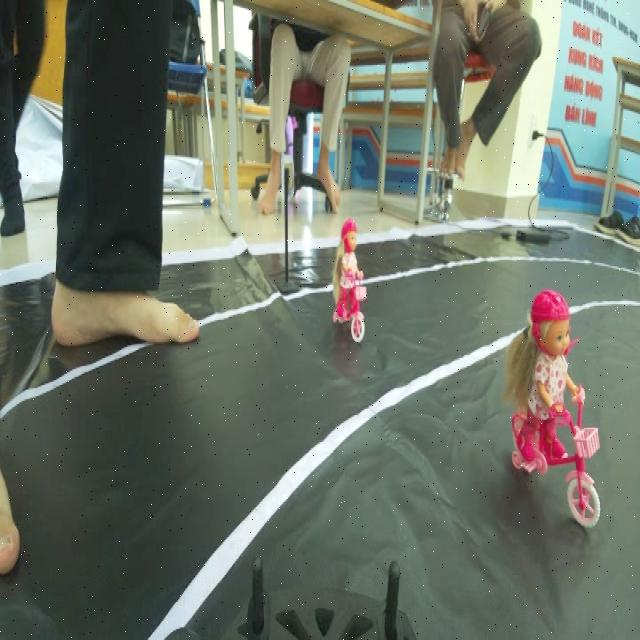pedestrian: (498, 263, 606, 534), (324, 210, 380, 344)
